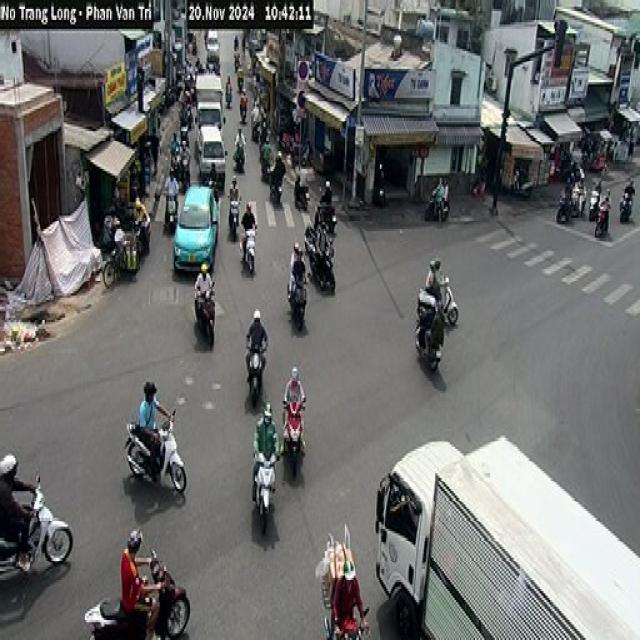motorcycle: (81, 555, 196, 640), (0, 489, 76, 591), (122, 408, 188, 497), (248, 438, 285, 542), (193, 292, 220, 357), (244, 345, 268, 411), (288, 271, 310, 335), (239, 224, 260, 278)
person: (0, 443, 33, 540), (117, 528, 156, 610), (135, 366, 165, 434), (253, 399, 279, 457), (242, 301, 270, 351), (286, 363, 306, 403), (197, 259, 214, 295)
truck: (368, 429, 636, 638)
